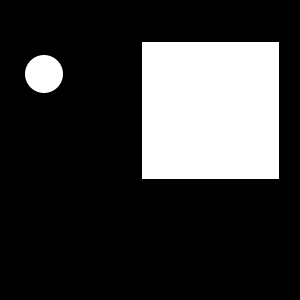circle: (142, 42, 279, 179)
rectangle: (25, 55, 63, 93)
